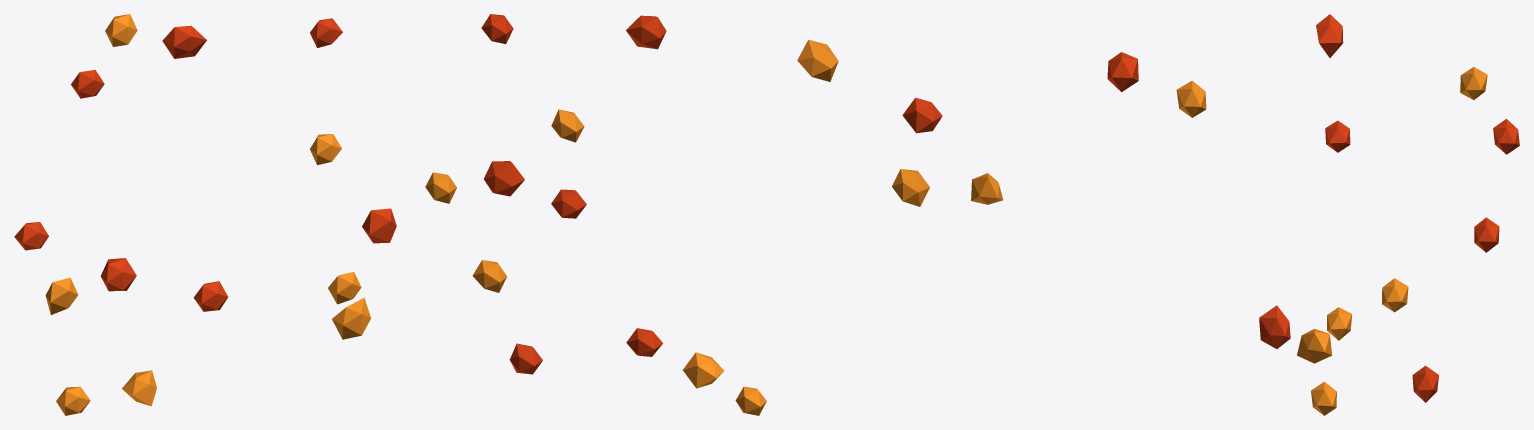
The model's file is frame_11.glb.
3 renders of one model, left to right at view 1: azimuth 30°, elevation 25°; view 2: azimuth 150°, elevation 25°; view 3: azimuth 270°, elevation 25°, orthographic.
Visible parts, largest first — view 1: effect_explosion_small_frame_11; view 2: effect_explosion_small_frame_11; view 3: effect_explosion_small_frame_11.
Part boxes in pixels (x1,y1,x2,y2): effect_explosion_small_frame_11: [14, 14, 396, 415]; effect_explosion_small_frame_11: [425, 14, 942, 415]; effect_explosion_small_frame_11: [971, 14, 1519, 415].
Bounding box in the file's own units: 10.91 × 9.75 × 13.09.
